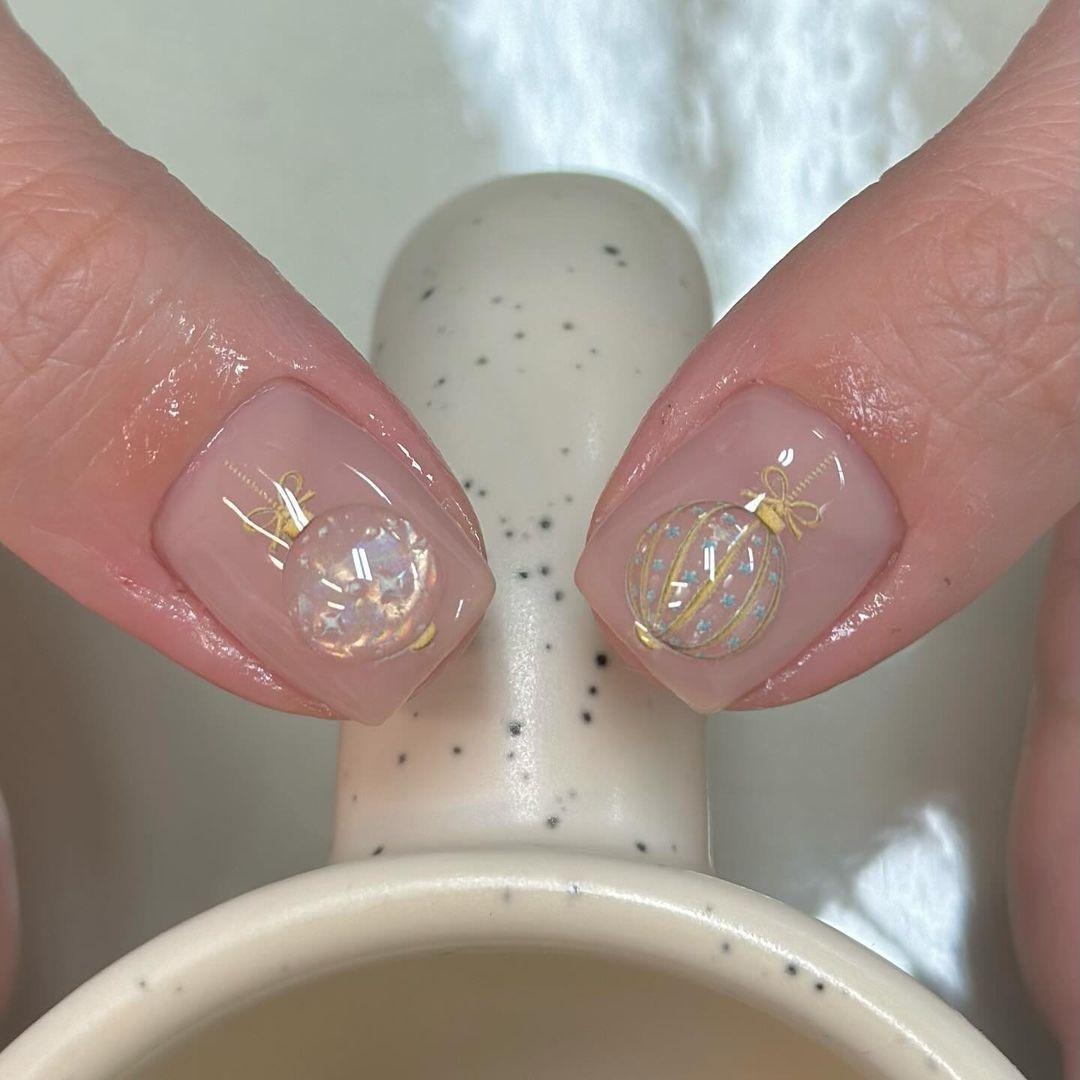nail: (148, 373, 496, 724), (573, 377, 907, 714)
